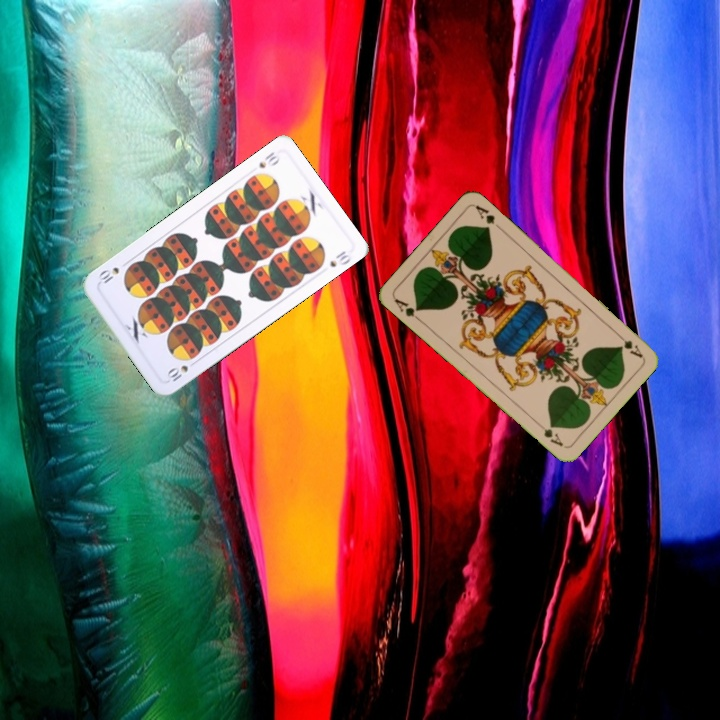GA: (390, 294, 425, 325), (612, 328, 645, 360)
S10: (163, 356, 200, 384), (255, 147, 283, 171)
